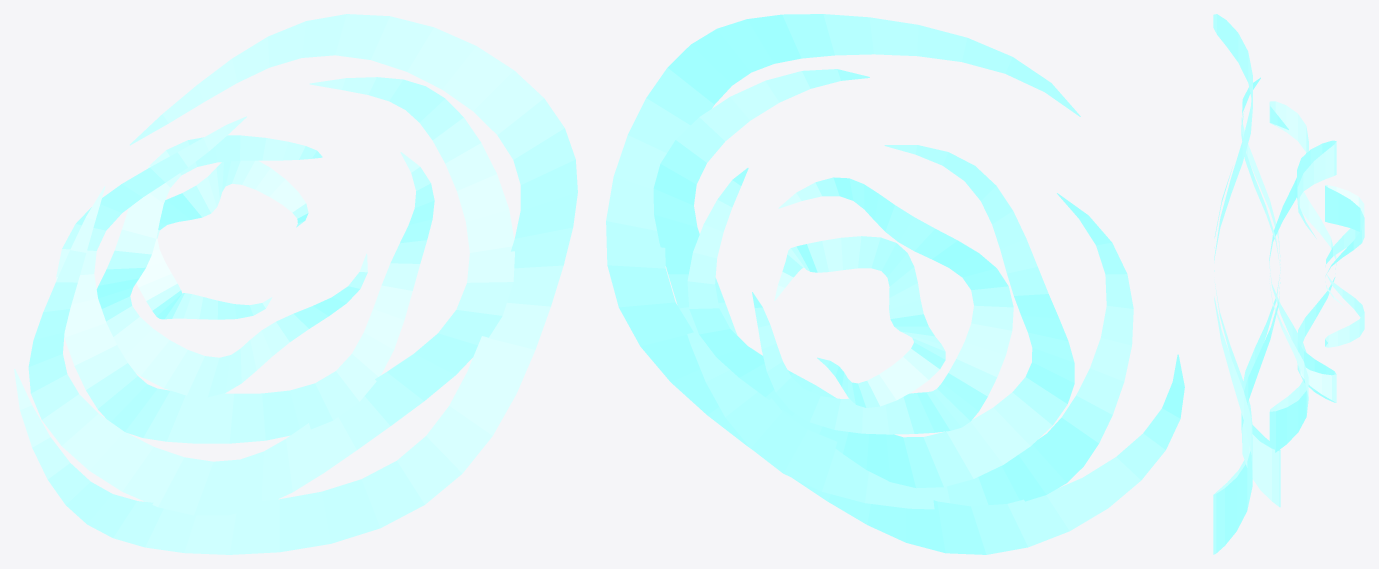
The model's file is pressure.glb.
3 renders of one model, left to right at view 1: azimuth 30°, elevation 25°; view 2: azimuth 150°, elevation 25°; view 3: azimuth 270°, elevation 25°, orthographic. The views are drawn at different scales.
Parts seen in each view (by area): view 1: pressure; view 2: pressure; view 3: pressure.
Part boxes in pixels (<box>): pressure: <box>14,14,577,554</box>; pressure: <box>606,14,1184,554</box>; pressure: <box>1213,14,1364,554</box>.
Size of the model in its own units: 0.7591 by 0.6672 by 0.1899.
